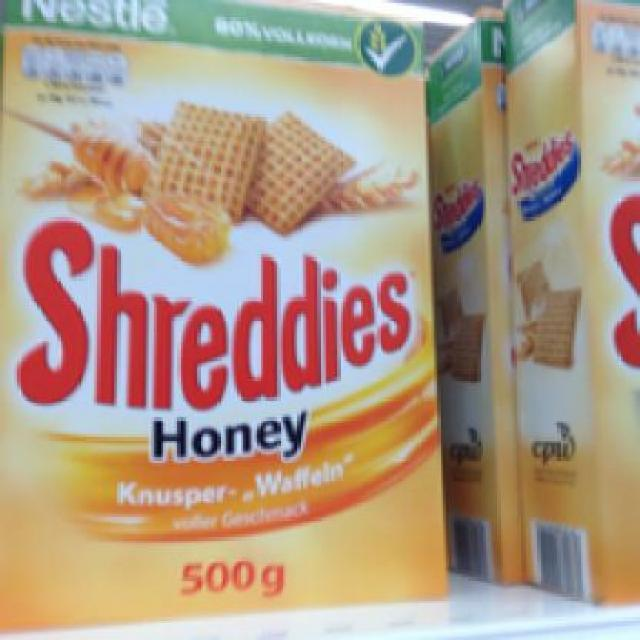Cereal: (0, 3, 443, 623)
